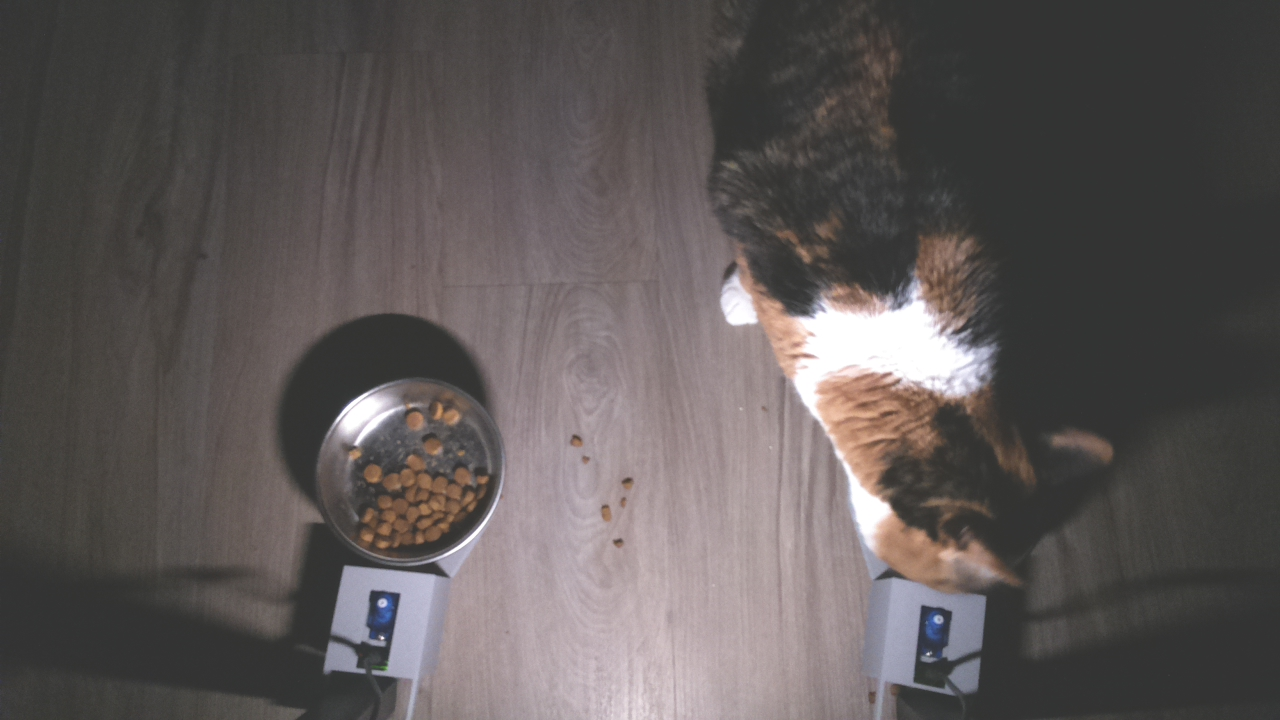bella_eating: (809, 294, 1118, 612)
open_bowl: (311, 375, 508, 571)
